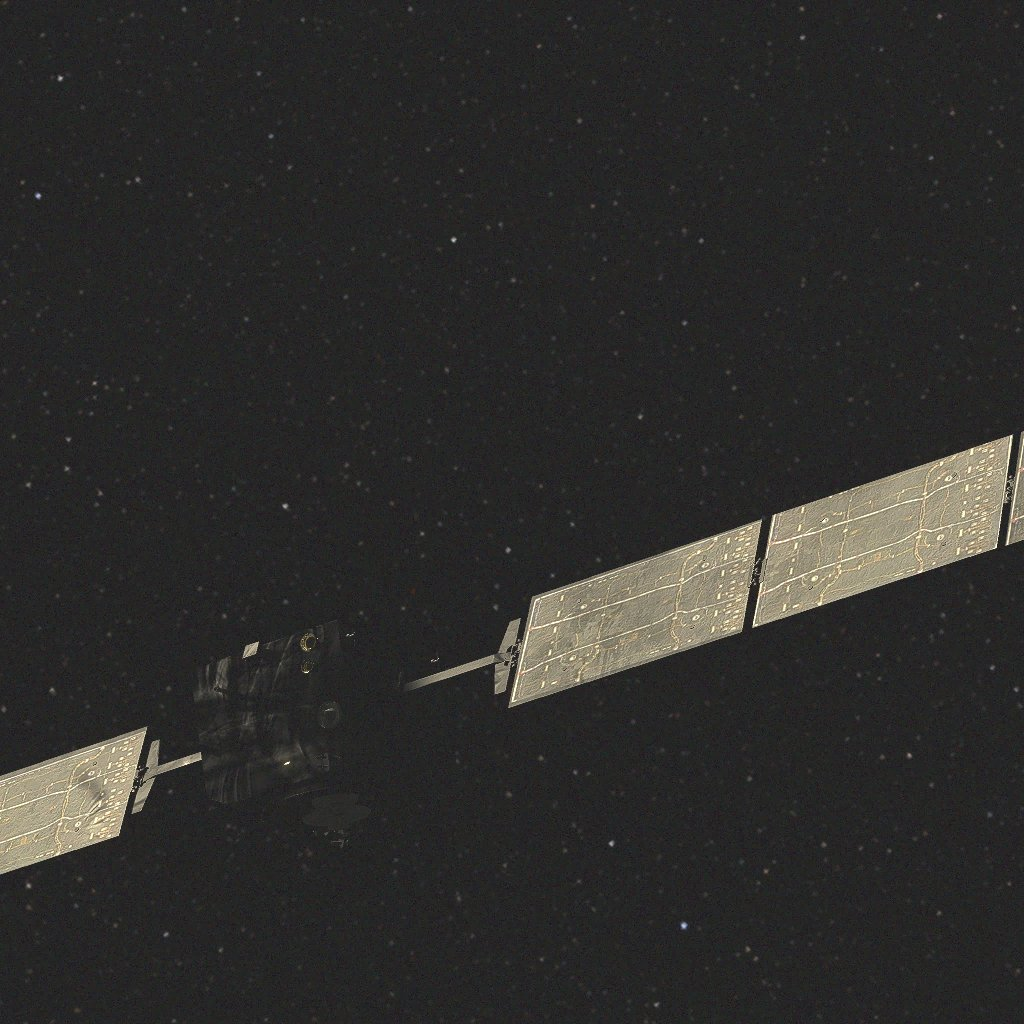smart_1: (0, 431, 1024, 877)
